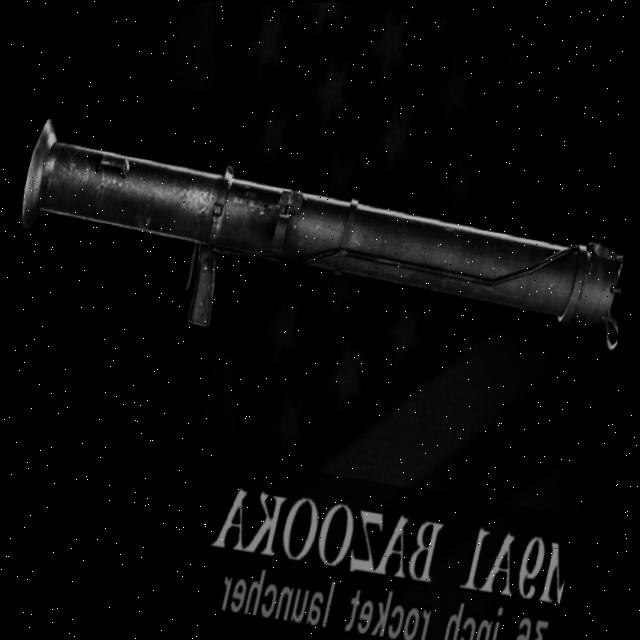rocket: (0, 113, 634, 396)
